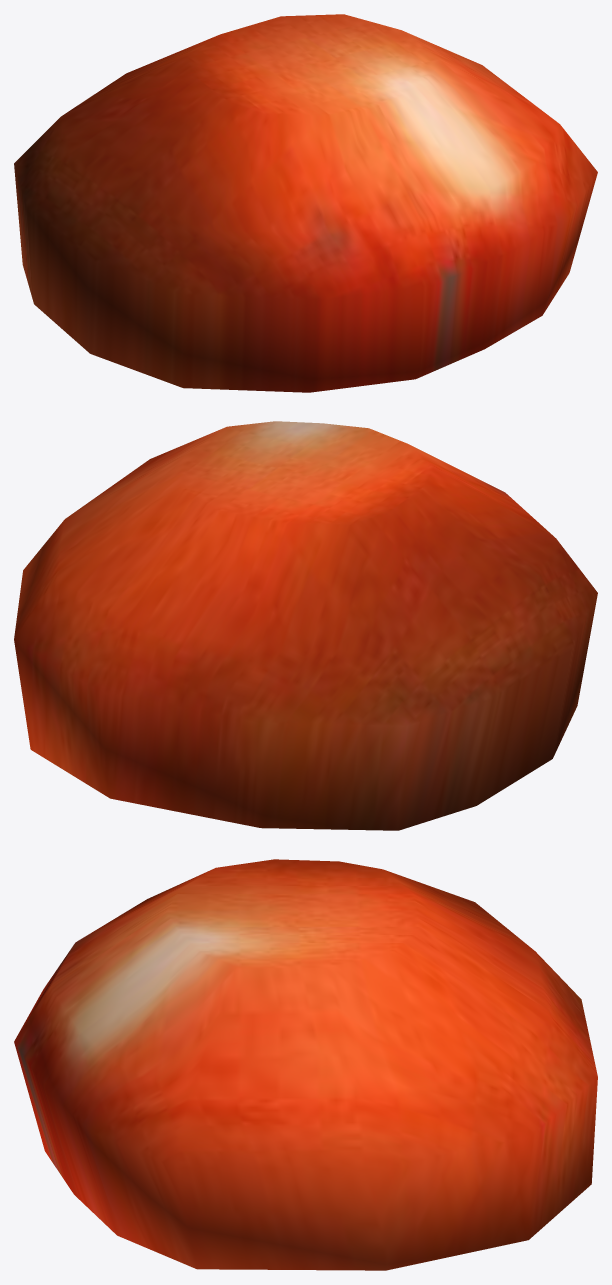
The model's file is persimon - cut.fbx.
3 views of the same model, one above another, from view 1: azimuth 30°, elevation 25°; view 2: azimuth 150°, elevation 25°; view 3: azimuth 270°, elevation 25° (orthographic). The views are drawn at different scales.
Parts seen in each view (by area): view 1: persimon___cut; view 2: persimon___cut; view 3: persimon___cut.
Boxes of the visible parts, x1,y1,x2,y2 form: persimon___cut: [14, 14, 597, 392]; persimon___cut: [14, 421, 597, 830]; persimon___cut: [14, 859, 597, 1270].
Size of the model in its own units: 57 by 25.9 by 56.23.
1 material, 1 textured.
